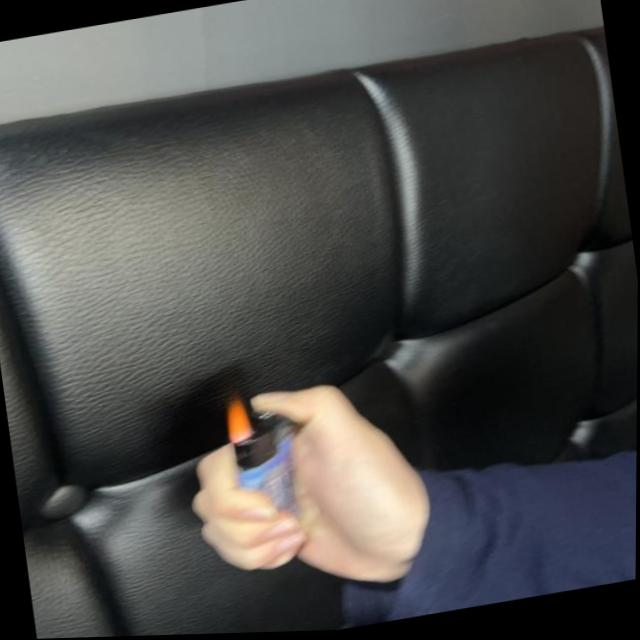Fire: (224, 394, 256, 447)
